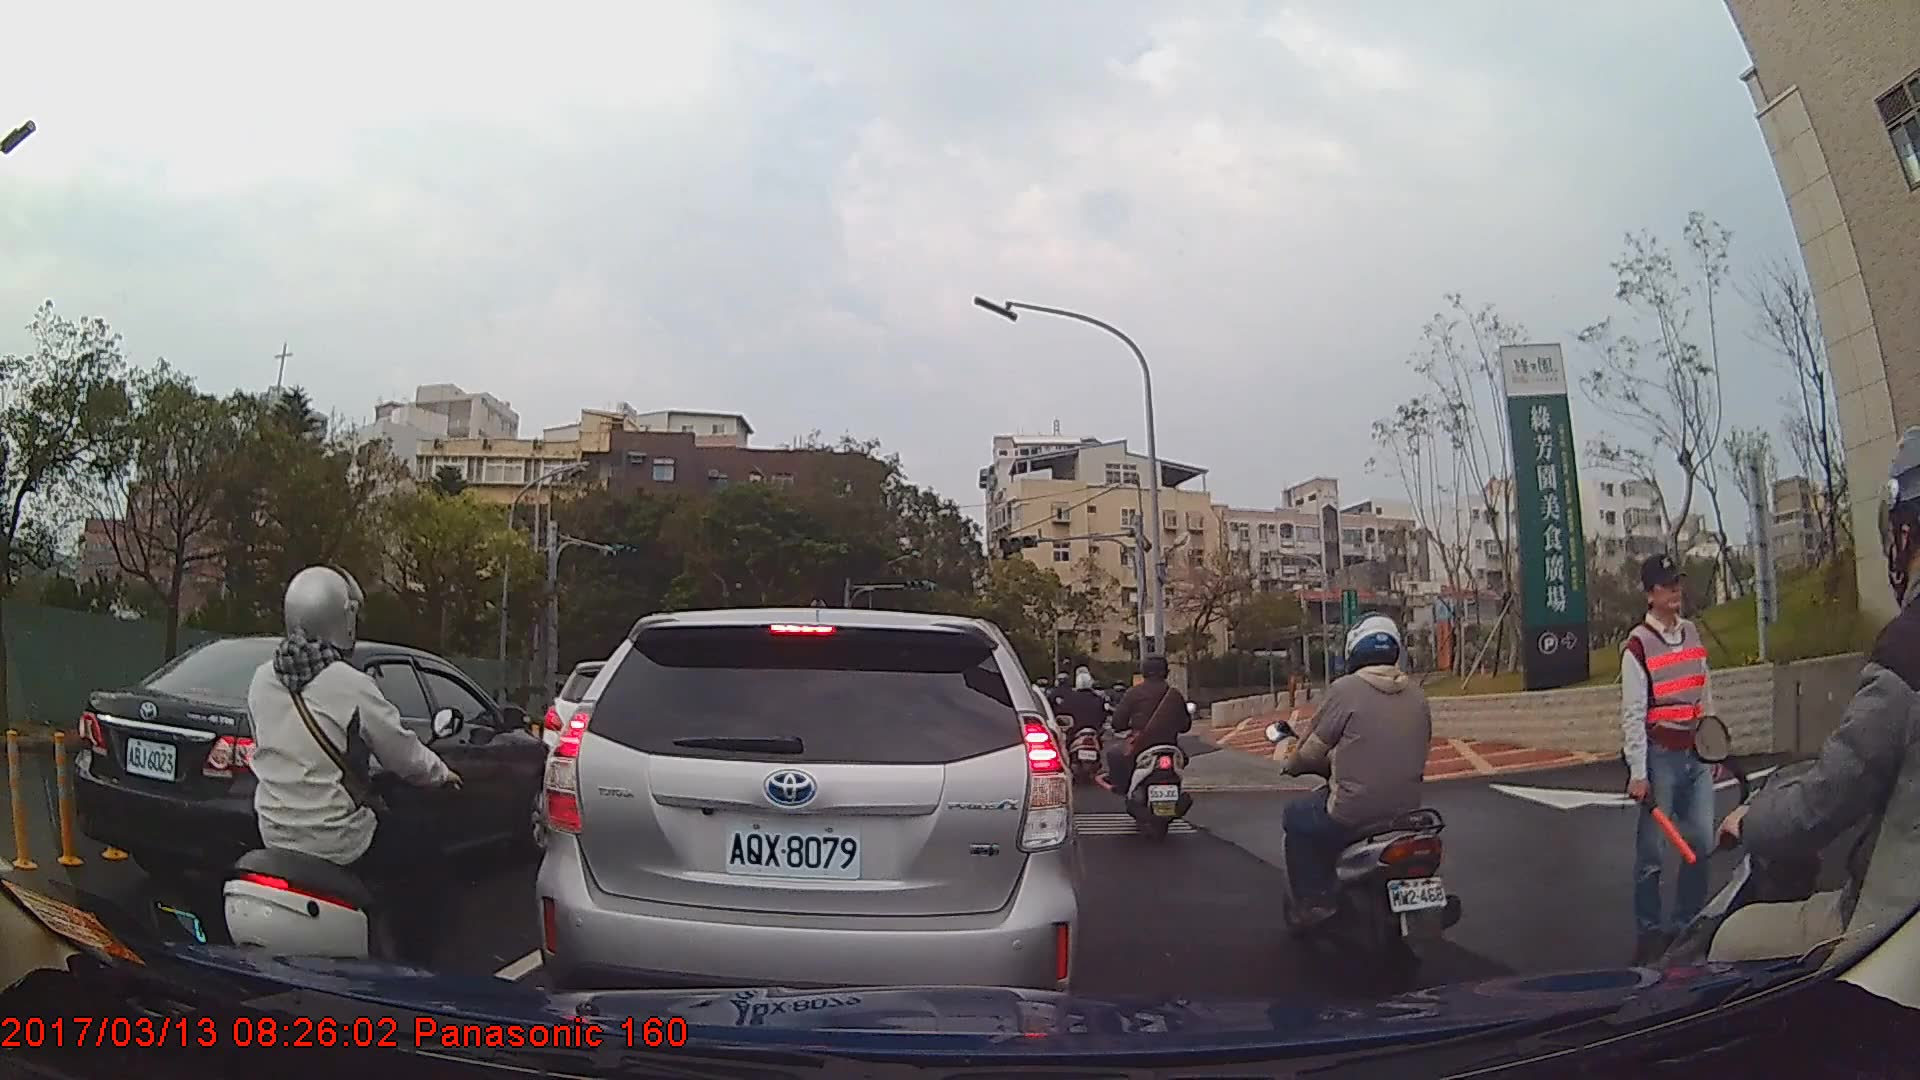pedestrian: (1618, 549, 1726, 956)
rider: (1656, 420, 1920, 1080), (208, 559, 448, 1018), (1272, 615, 1455, 979), (1106, 655, 1195, 837), (1069, 667, 1114, 791)
vehicle: (530, 608, 1085, 1019), (68, 634, 560, 919)
